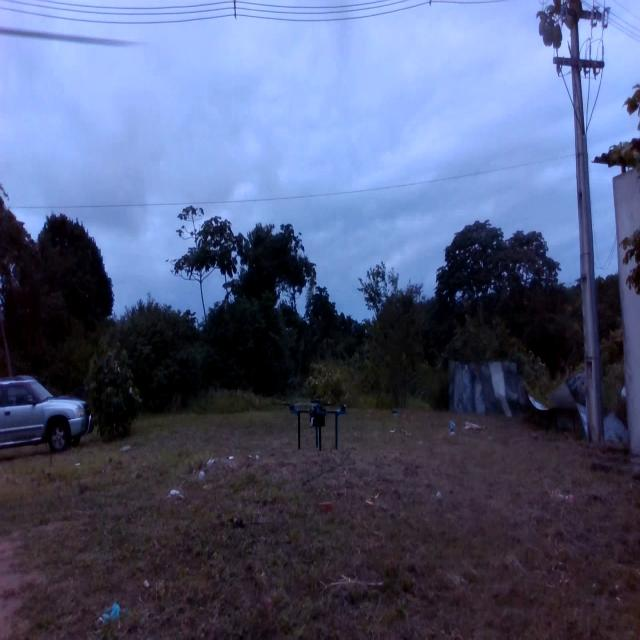-uav-: (274, 386, 356, 464)
